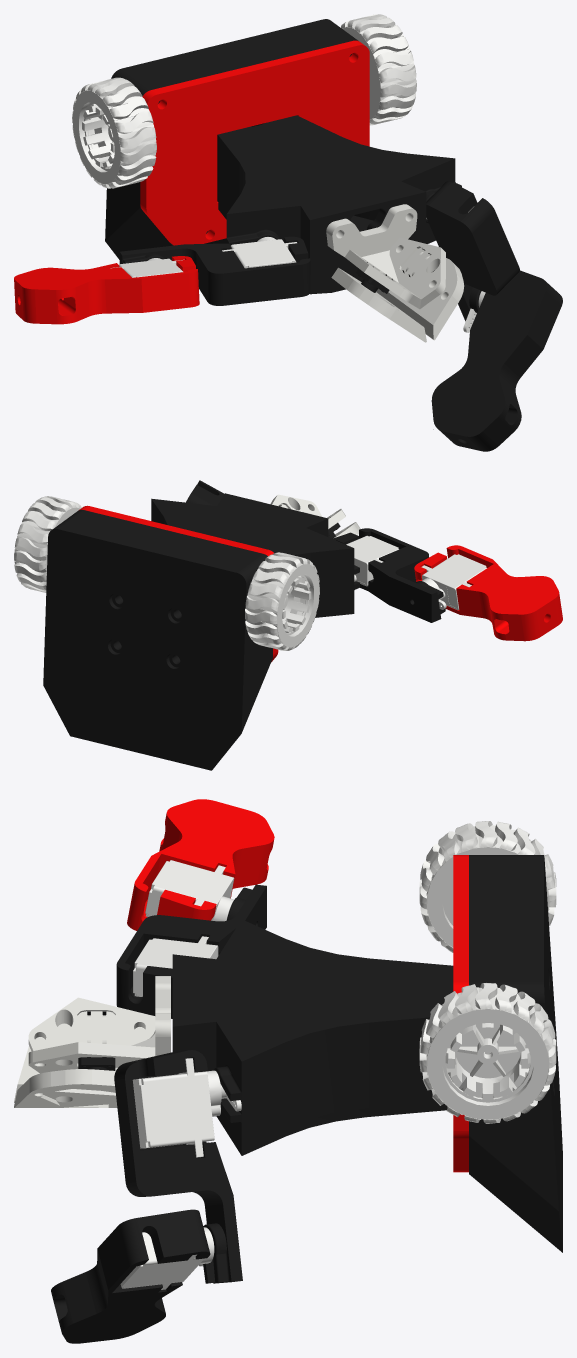
File: brawl-bots.glb
3 views of the same model, one above another, from view 1: azimuth 30°, elevation 25°; view 2: azimuth 150°, elevation 25°; view 3: azimuth 270°, elevation 25° (orthographic). The views are drawn at different scales.
Size of the model in its own units: 244 by 138 by 178.
